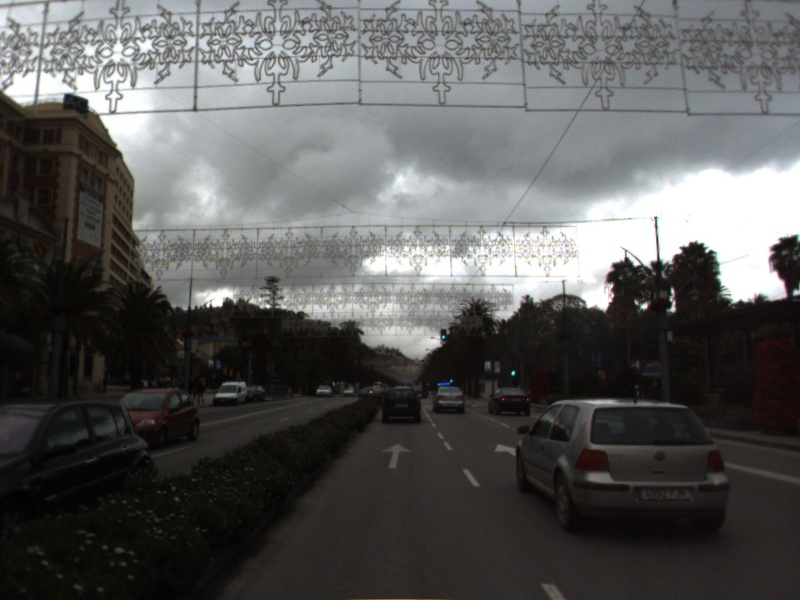STRAIGHT: (380, 441, 413, 471), (492, 441, 519, 458)
